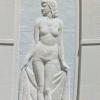Statue: (18, 2, 73, 95)
